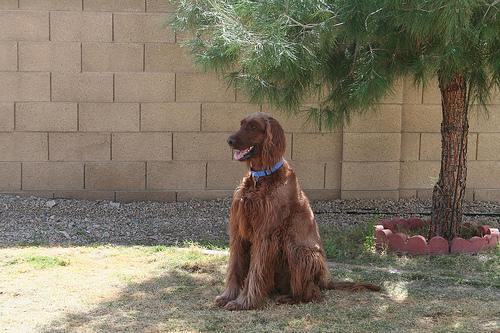Irish_setter: (210, 112, 383, 311)
